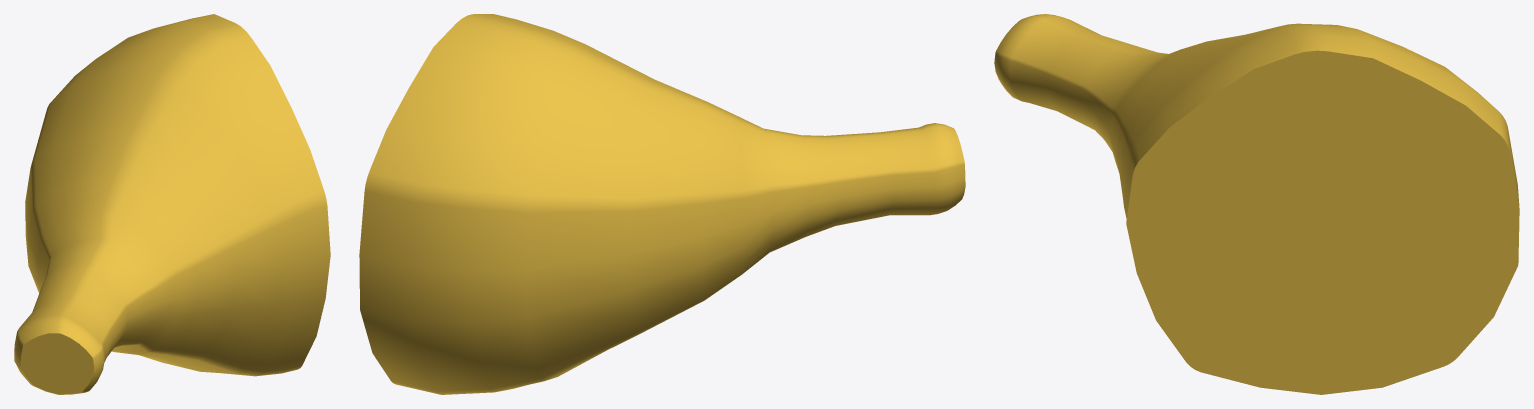
File: banana_top1.fbx
3 views of the same model, side by side, from view 1: azimuth 30°, elevation 25°; view 2: azimuth 150°, elevation 25°; view 3: azimuth 270°, elevation 25° (orthographic). The views are drawn at different scales.
Parts seen in each view (by area): view 1: top; view 2: top; view 3: top.
Part boxes in pixels (x1,y1,x2,y2): top: [14, 14, 330, 394]; top: [359, 14, 965, 394]; top: [994, 14, 1519, 394].
Bounding box in the file's own units: 93.96 × 84.5 × 117.
